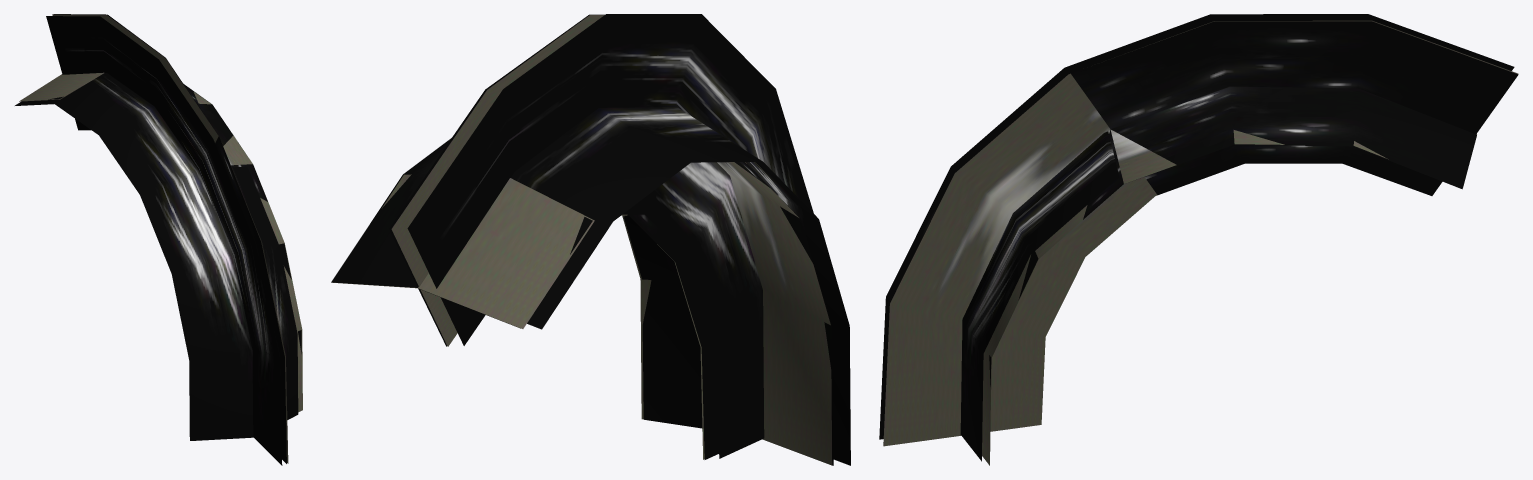
The model's file is Effect_3006skill_S.fbx.
The picture shows the model from 3 angles, left to right: view 1: azimuth 30°, elevation 25°; view 2: azimuth 150°, elevation 25°; view 3: azimuth 270°, elevation 25°; orthographic projection. The views are drawn at different scales.
Visible parts, largest first — view 1: Effect_1001tattack03, Effect_1001tattack01, Effect_1001tattack02; view 2: Effect_1001tattack03, Effect_1001tattack01, Effect_1001tattack02; view 3: Effect_1001tattack02, Effect_1001tattack01, Effect_1001tattack03.
Part boxes in pixels (<box>): Effect_1001tattack03: <box>15,16,298,465</box>; Effect_1001tattack01: <box>19,14,302,463</box>; Effect_1001tattack02: <box>48,14,301,463</box>; Effect_1001tattack03: <box>407,14,850,465</box>; Effect_1001tattack01: <box>333,15,832,465</box>; Effect_1001tattack02: <box>331,14,833,465</box>; Effect_1001tattack02: <box>883,21,1518,442</box>; Effect_1001tattack01: <box>883,20,1518,465</box>; Effect_1001tattack03: <box>879,14,1514,461</box>.
Size of the model in its own units: 1.23 by 3.18 by 4.31.
3 materials, 3 textured.
